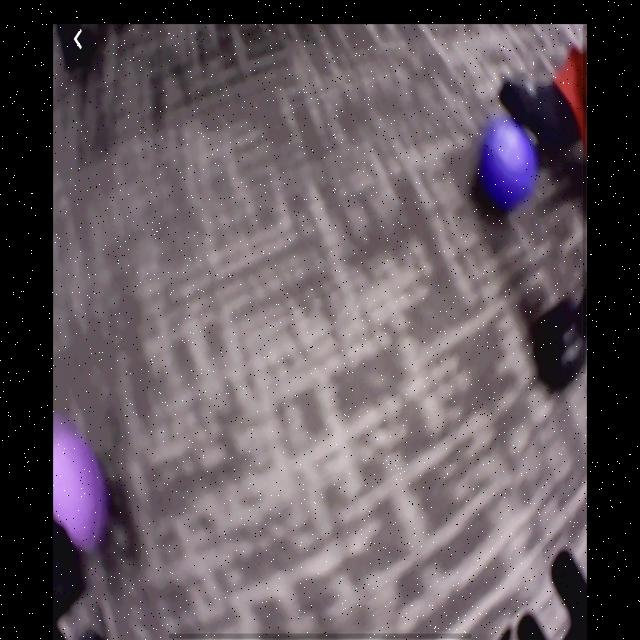ball: (56, 425, 104, 549), (480, 121, 539, 209)
